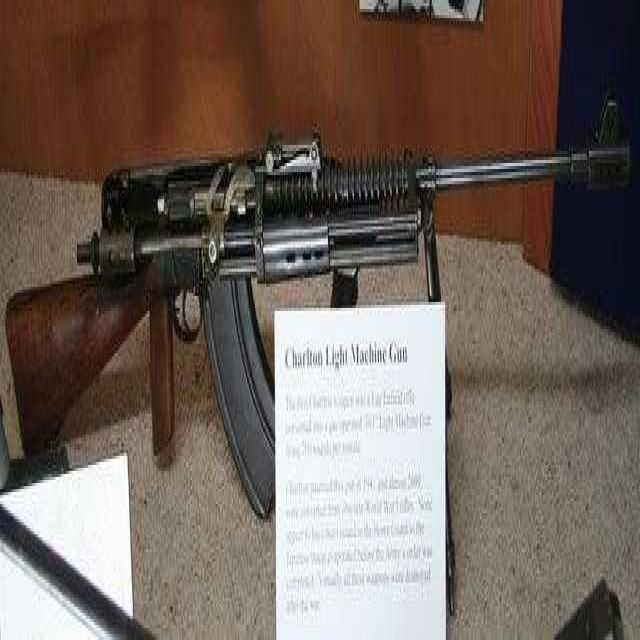weapon: (5, 46, 633, 544)
